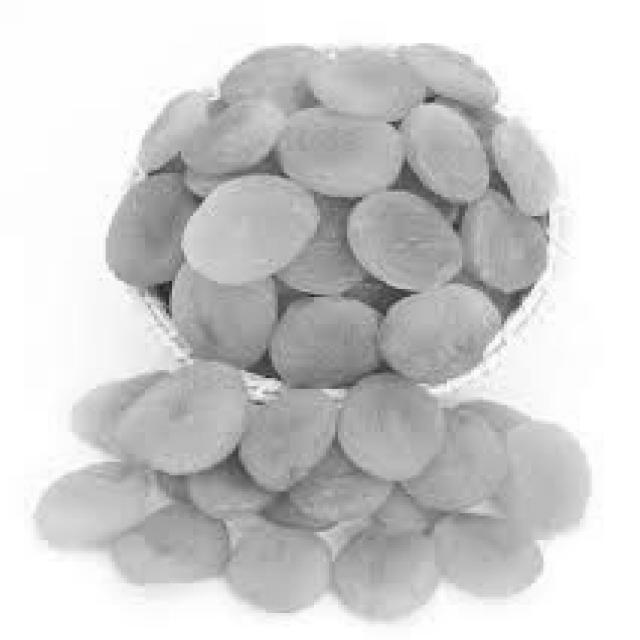kayisi: (114, 74, 575, 590)
